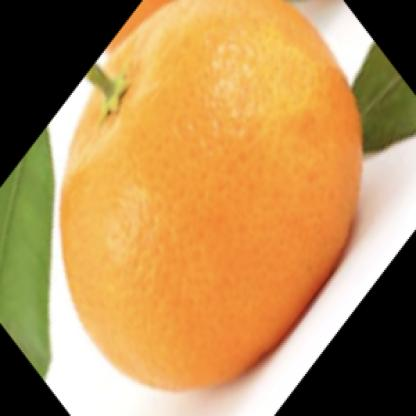fresh: (62, 2, 361, 391)
